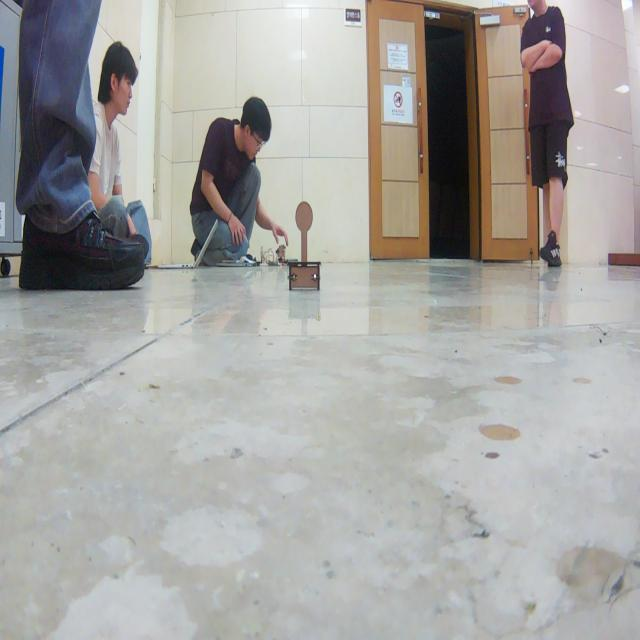target: (288, 200, 321, 290)
